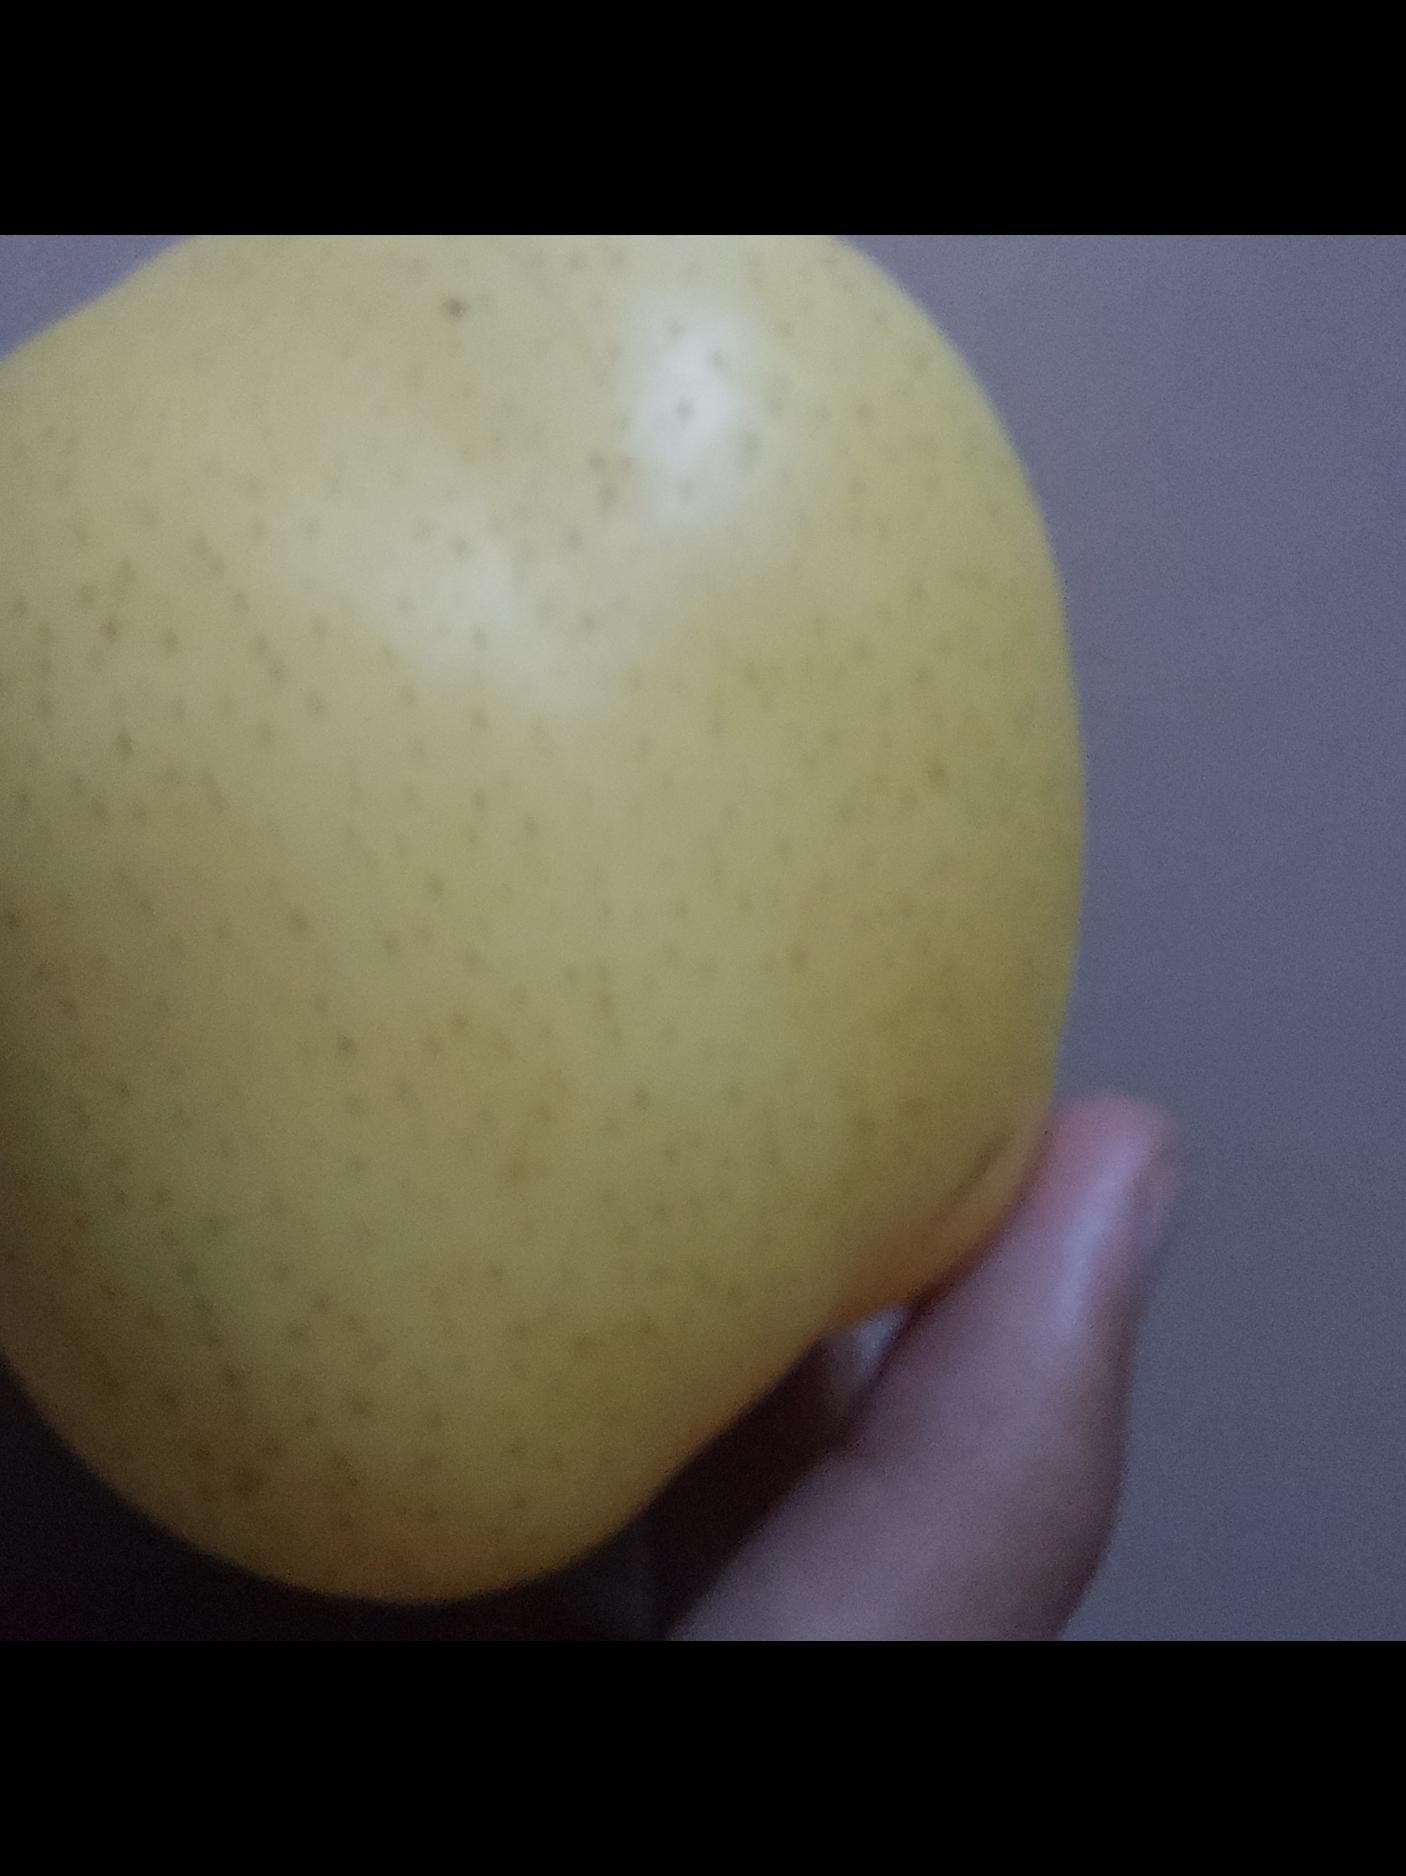Good Pear: (0, 235, 1077, 1625)
